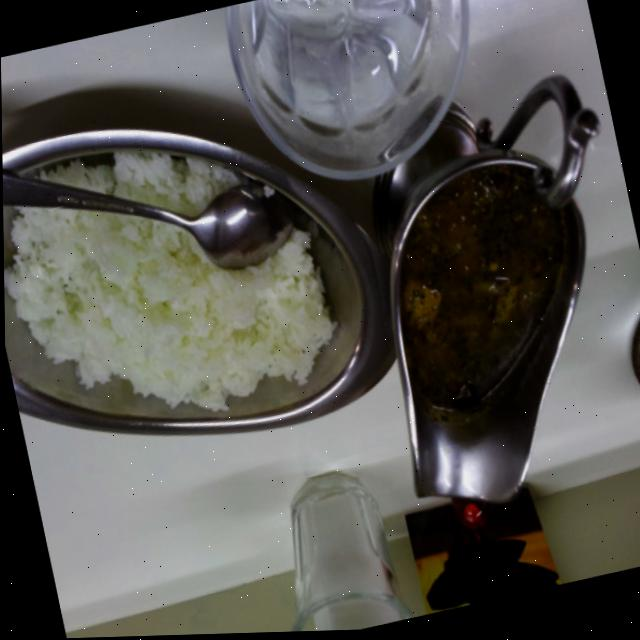米饭主食: (1, 60, 409, 516)
